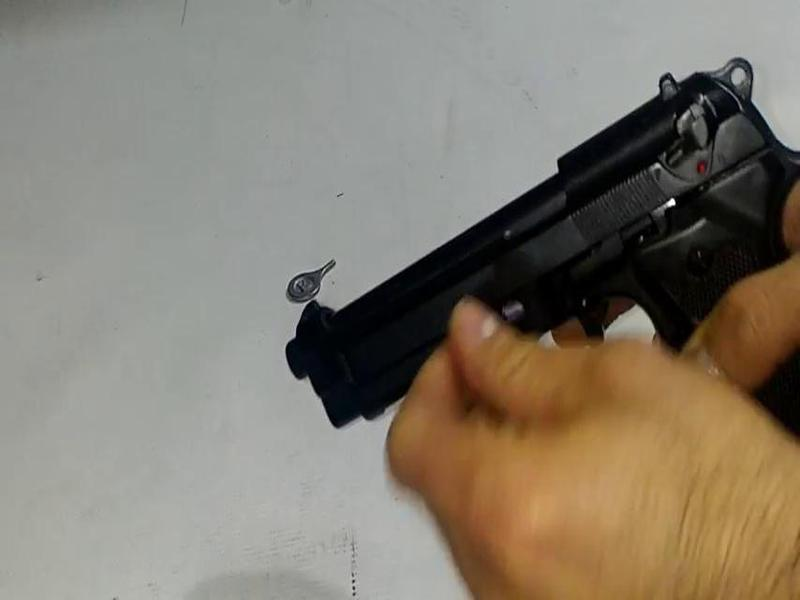Pistola: (248, 71, 727, 418)
